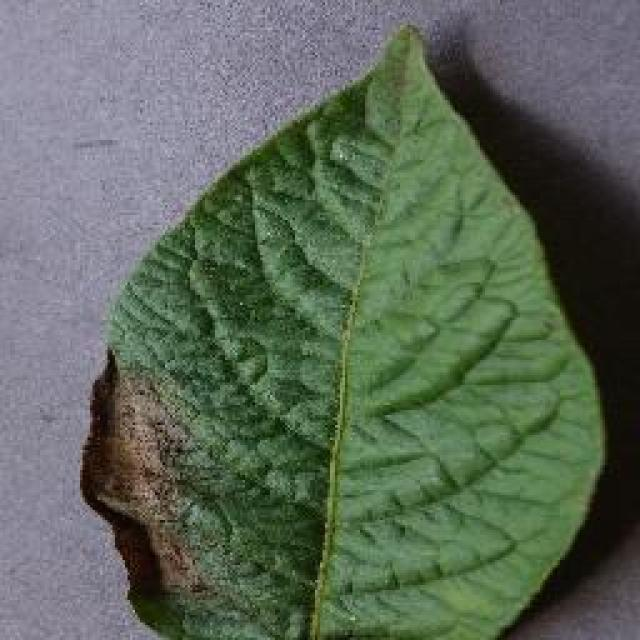Potato___Late_blight: (60, 7, 620, 640)
